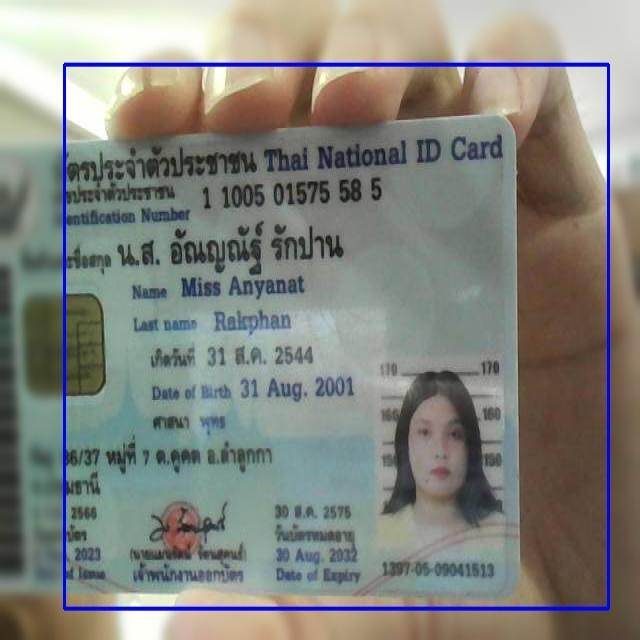Address_th: (27, 439, 281, 502)
Date_of_Birth: (237, 371, 356, 406)
Date_of_Expiry: (268, 543, 373, 571)
First_Name: (178, 271, 311, 303)
ID_Number: (197, 176, 391, 217)
Image: (379, 353, 508, 555)
Last_Name: (210, 306, 295, 340)
Thai_Name: (115, 219, 366, 278)
